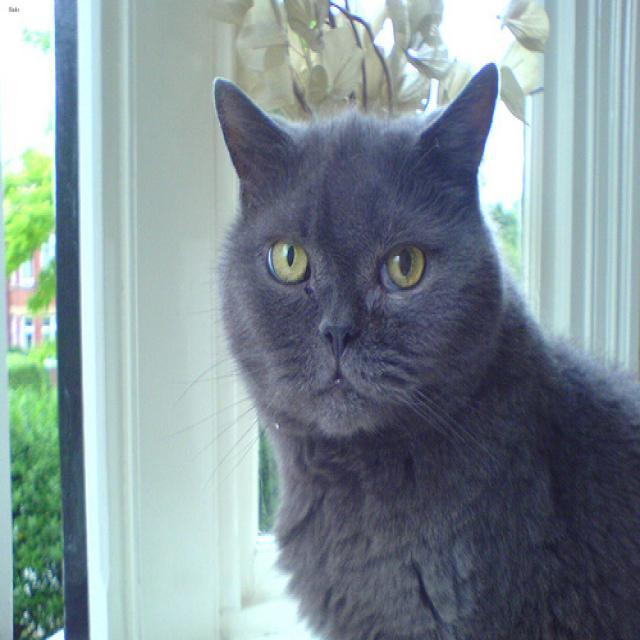British_Shorthair: (204, 59, 523, 470)
